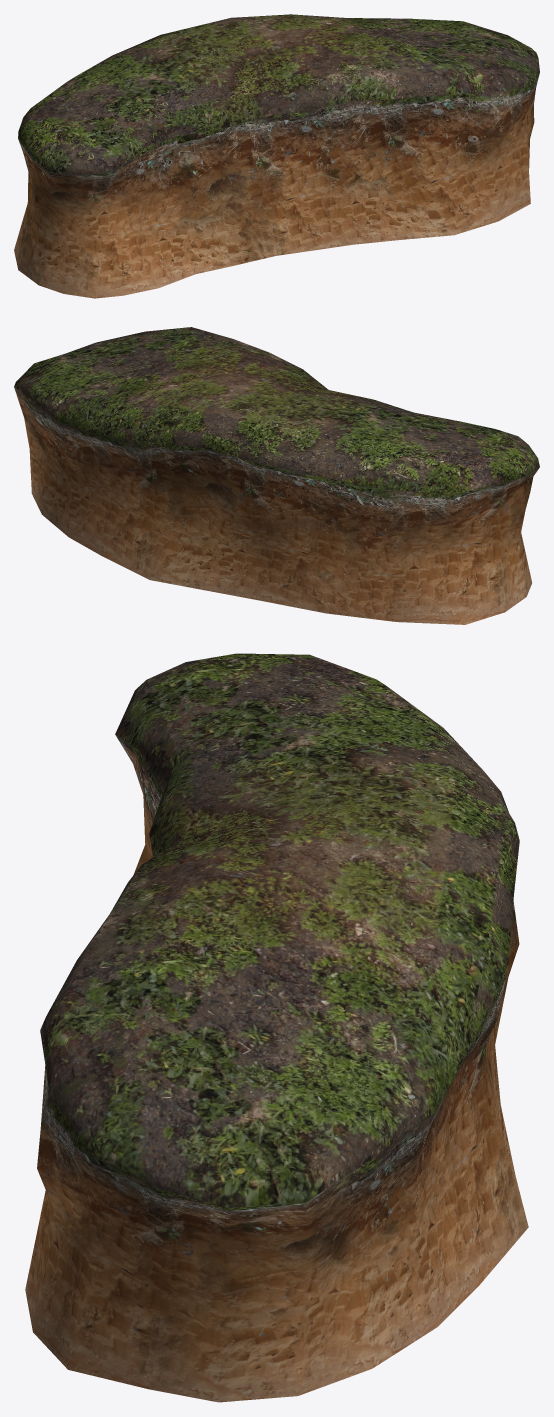
Rendered from Ground Object 02.FBX.
3 views of the same model, one above another, from view 1: azimuth 30°, elevation 25°; view 2: azimuth 150°, elevation 25°; view 3: azimuth 270°, elevation 25° (orthographic). The views are drawn at different scales.
Parts seen in each view (by area): view 1: Ground Object; view 2: Ground Object; view 3: Ground Object.
Boxes of the visible parts, box(x1,y1,x2,y2) form: Ground Object: box(14, 14, 539, 298); Ground Object: box(14, 327, 539, 624); Ground Object: box(25, 653, 528, 1402).
Size of the model in its own units: 93.77 by 30.38 by 40.77.
